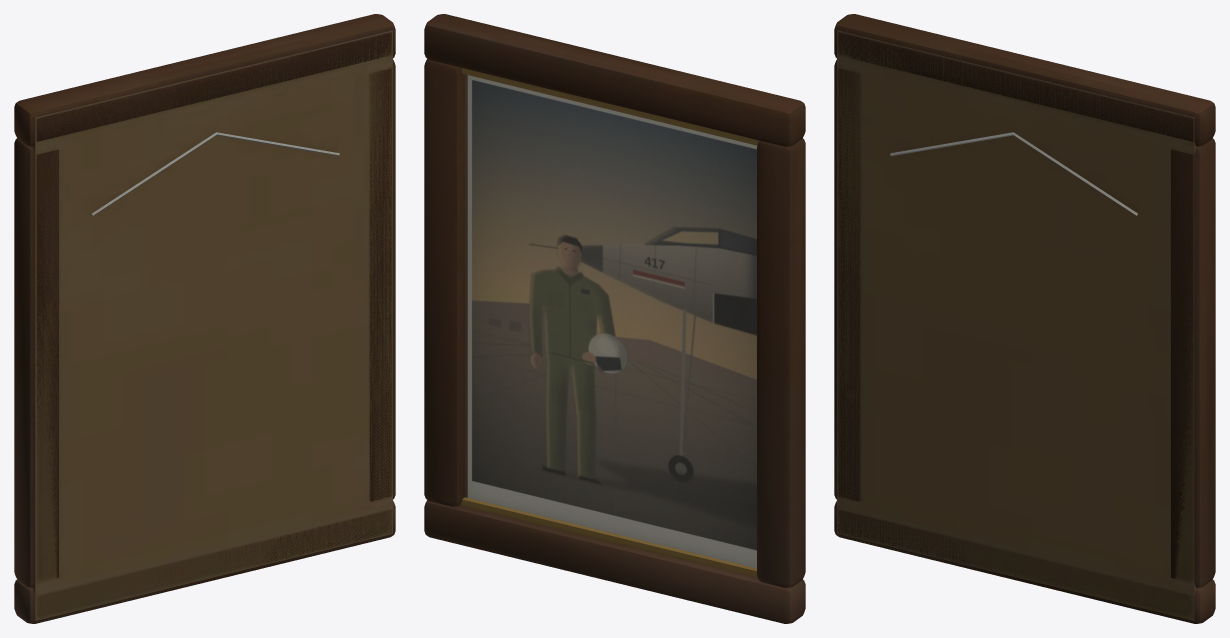
File: framed_pilot_photo.glb
The picture shows the model from 3 angles, left to right: view 1: azimuth 30°, elevation 25°; view 2: azimuth 150°, elevation 25°; view 3: azimuth 330°, elevation 25°; orthographic projection.
Parts seen in each view (by area): view 1: lod0; view 2: lod0; view 3: lod0.
Boxes of the visible parts, x1=… form: lod0: x1=14, y1=14, x2=395, y2=623; lod0: x1=424, y1=14, x2=805, y2=623; lod0: x1=834, y1=14, x2=1215, y2=623.
Size of the model in its own units: 0.3 by 0.4 by 0.0302.
Materials: 2 (1 with a texture image).
